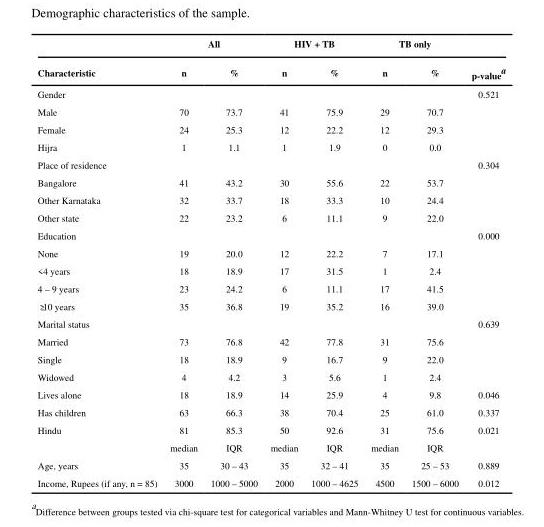table: (36, 36, 505, 488)
table column: (36, 36, 162, 488), (203, 36, 263, 488), (303, 36, 363, 488), (404, 36, 464, 488), (162, 36, 203, 488), (363, 36, 404, 488), (464, 36, 505, 488), (263, 36, 303, 488)
table column header: (36, 36, 505, 84)
table row: (36, 56, 505, 84), (36, 36, 505, 56), (36, 84, 505, 102), (36, 119, 505, 137), (36, 137, 505, 155), (36, 172, 505, 190), (36, 190, 505, 208), (36, 225, 505, 243), (36, 243, 505, 261), (36, 261, 505, 279), (36, 296, 505, 314), (36, 314, 505, 332), (36, 349, 505, 367), (36, 367, 505, 385), (36, 402, 505, 420), (36, 420, 505, 438), (36, 455, 505, 473), (36, 102, 505, 119), (36, 155, 505, 172), (36, 208, 505, 225), (36, 279, 505, 296), (36, 332, 505, 349), (36, 385, 505, 402), (36, 438, 505, 455), (36, 473, 505, 488)
table spanning cell: (36, 36, 162, 84), (36, 420, 162, 455), (162, 36, 263, 56), (363, 36, 464, 56), (263, 36, 363, 56), (464, 36, 505, 84)
